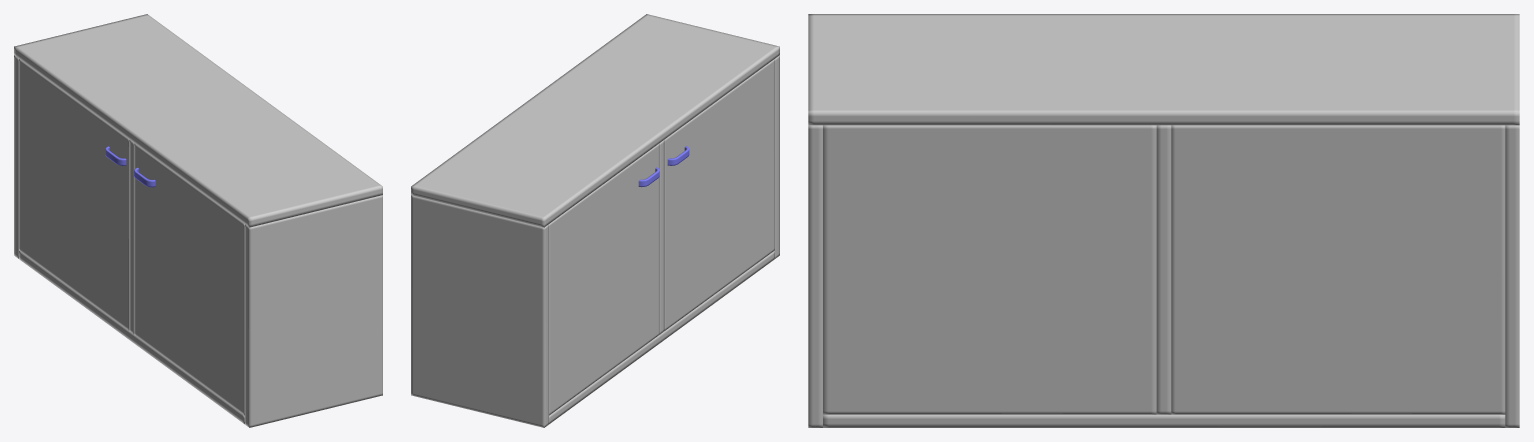
Rendered from Cabinet_02.fbx.
3 renders of one model, left to right at view 1: azimuth 30°, elevation 25°; view 2: azimuth 150°, elevation 25°; view 3: azimuth 270°, elevation 25°, orthographic. The views are drawn at different scales.
Visible parts, largest first — view 1: Cabinet_02_LOD00; view 2: Cabinet_02_LOD00; view 3: Cabinet_02_LOD00.
Part boxes in pixels (bbox=[...]): Cabinet_02_LOD00: bbox=[14, 14, 382, 427]; Cabinet_02_LOD00: bbox=[411, 14, 779, 427]; Cabinet_02_LOD00: bbox=[808, 14, 1519, 427].
Size of what is drawn, in the model's own units: 52.39 by 75.01 by 153.
